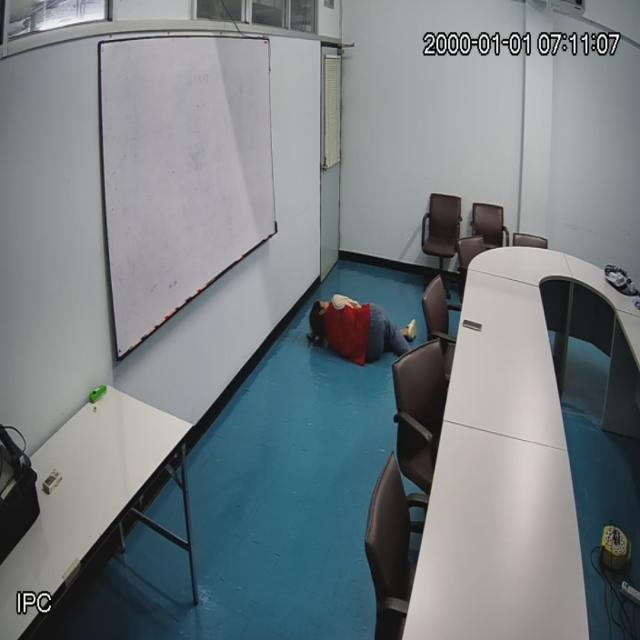fall: (298, 278, 436, 380)
